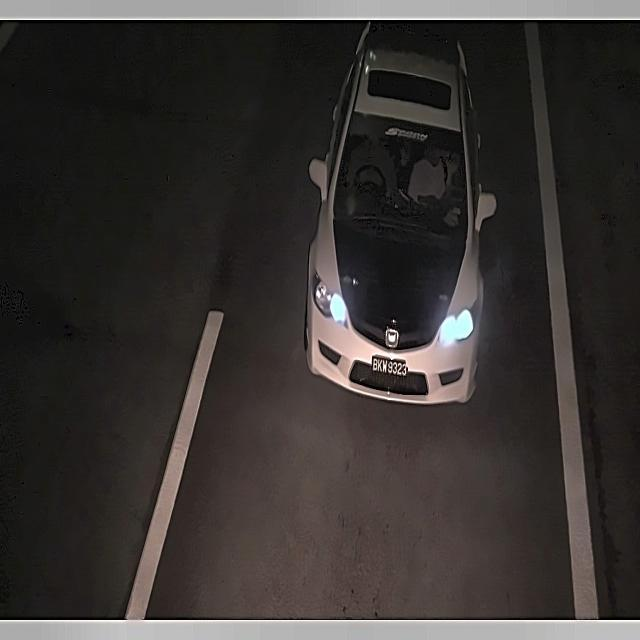car: (368, 342, 413, 384)
